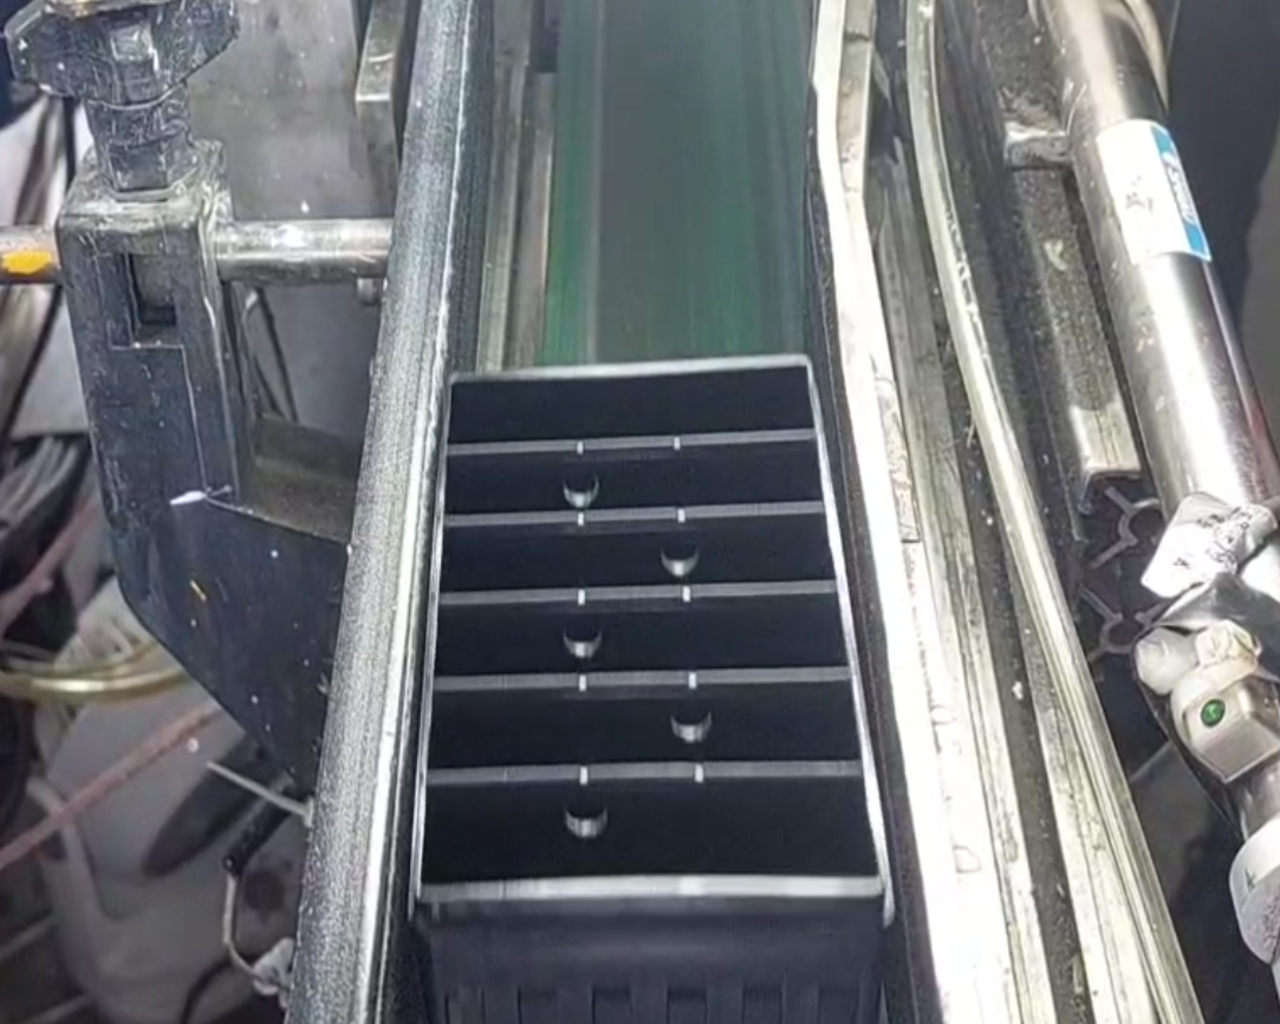box: (393, 334, 920, 942)
round: (642, 514, 717, 595), (542, 779, 627, 850), (653, 684, 732, 757), (542, 447, 616, 522), (542, 599, 618, 669)
